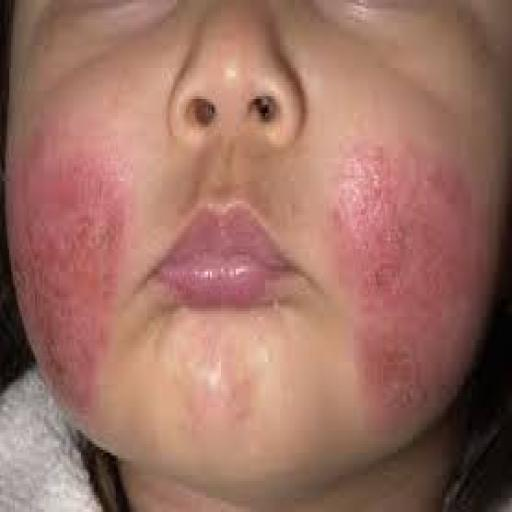Skin_Lesion: (7, 168, 124, 360), (351, 157, 457, 327)
